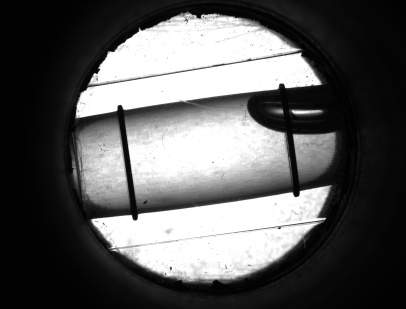line: (115, 124, 139, 198), (282, 140, 302, 178)
